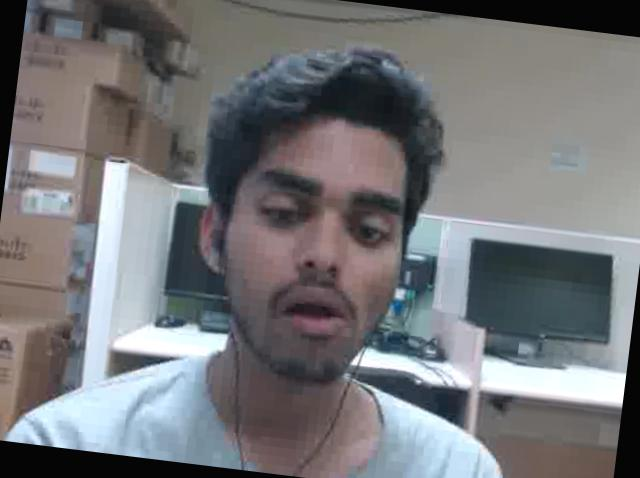bosan: (212, 119, 422, 381)
